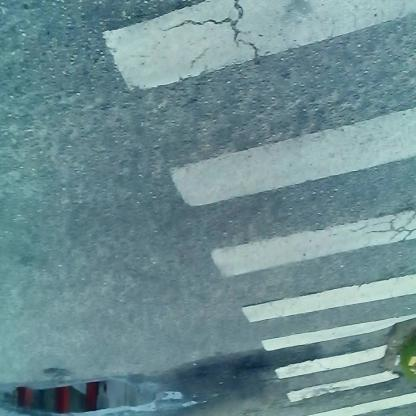crosswalk: (114, 2, 413, 406)
